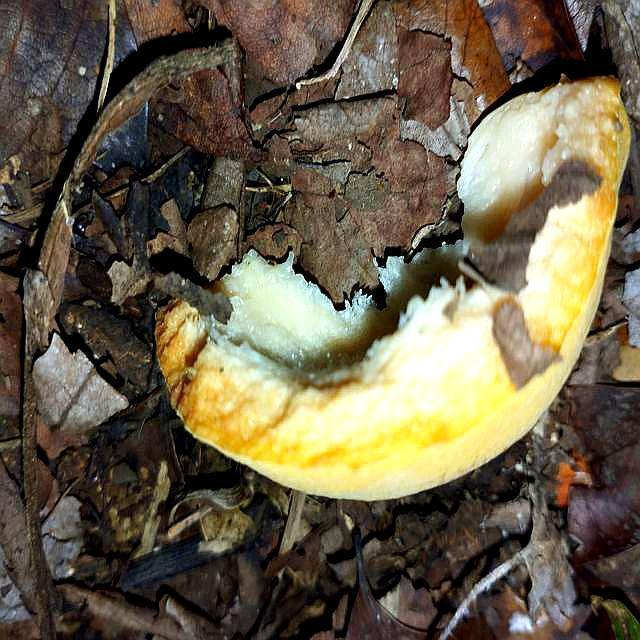Biodegradable: (155, 85, 637, 495)
